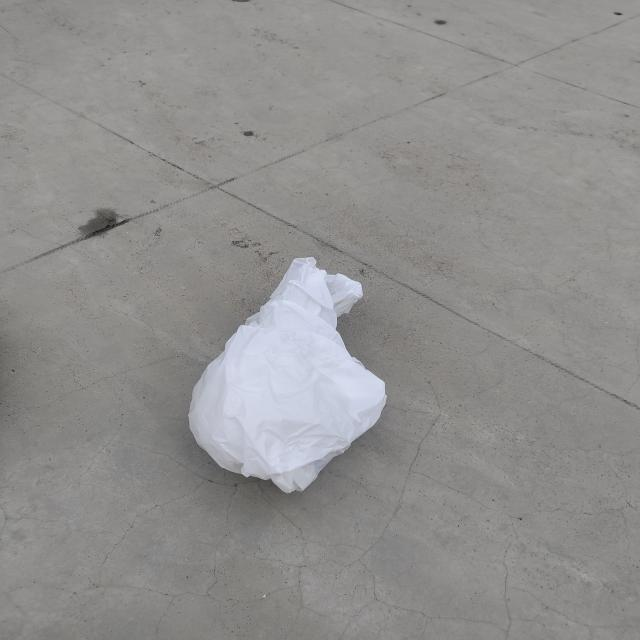plastic: (148, 241, 457, 537)
